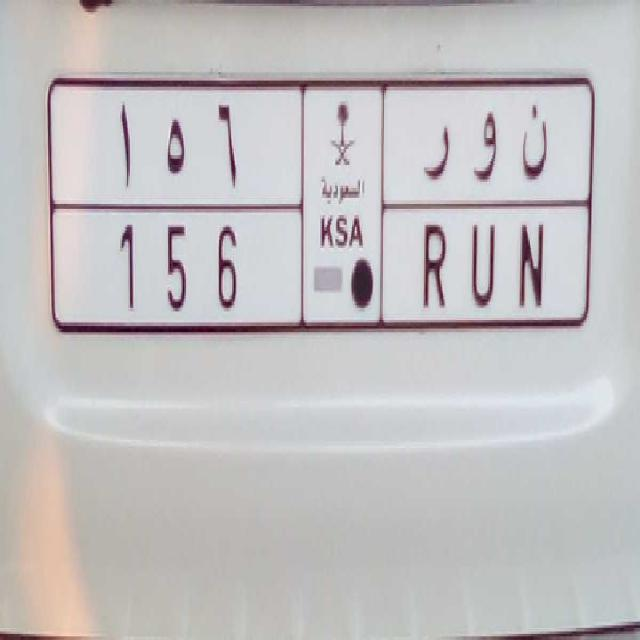license_plate: (112, 205, 561, 334)
